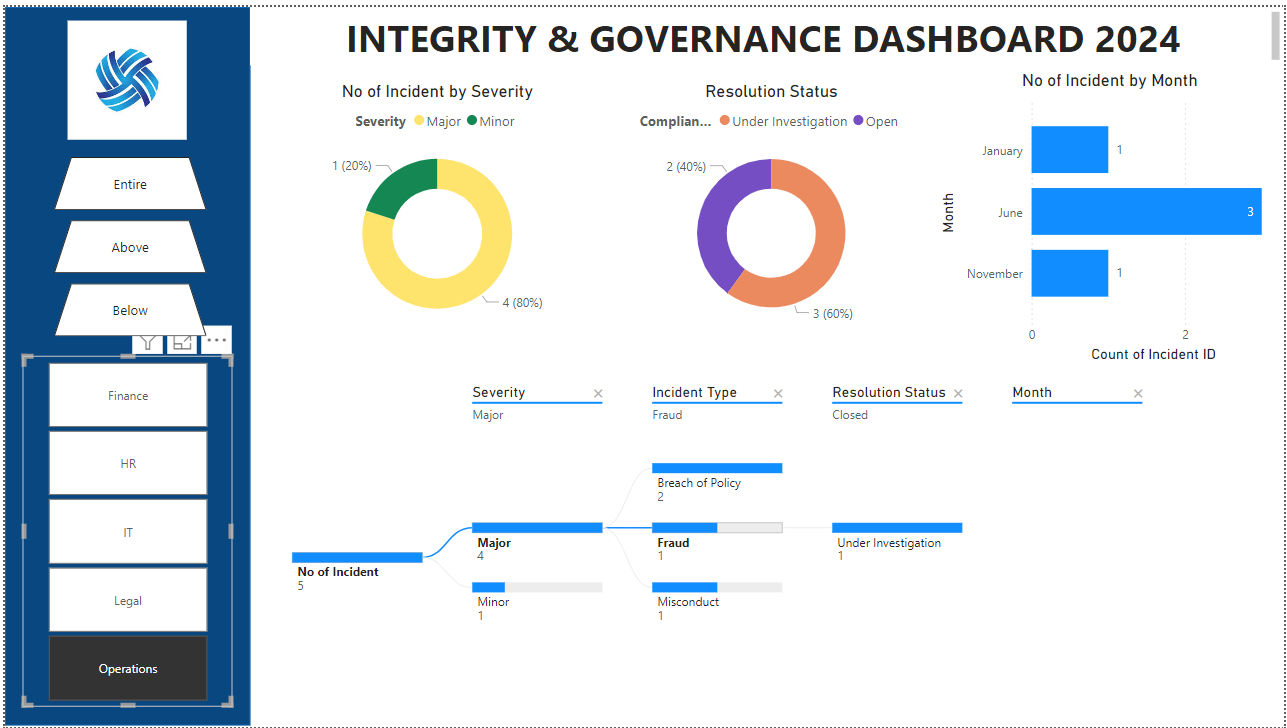

What the dashboard file says about the page in this screenshot:
{"tool":"powerbi","page":{"name":"Page 1","canvas":[1280,720],"ordinal":0},"visuals":[{"type":"shape","box":[0,0,245.4,718.7],"z":0},{"type":"textbox","box":[245.4,0,1034.6,58.6],"z":1000},{"type":"decompositionTreeVisual","fields":{"ExplainBy":["FullData.Severity","FullData.Incident Type","FullData.Compliance_Incidents_Resolution_Data.Incident Status","FullData.Date of Incident.Variation.Date Hierarchy.Month"],"Analyze":["CountNonNull(FullData.Incident ID)"]},"box":[257.3,360.4,1017.3,359.4],"z":2000},{"type":"slicer","fields":{"Values":["FullData.Compliance_Incidents_Resolution_Data.Assigned Department"]},"box":[18,348.9,209.1,351.4],"z":4000},{"type":"donutChart","title":"No of Incident by Severity","fields":{"Category":["FullData.Severity"],"Y":["CountNonNull(FullData.Incident ID)"]},"box":[262.7,73.8,339.8,257.3],"z":5000},{"type":"donutChart","title":"Resolution Status","fields":{"Category":["FullData.Compliance_Incidents_Resolution_Data.Incident Status"],"Y":["CountNonNull(FullData.Incident ID)"]},"box":[602.5,73.8,327.9,256.2],"z":6000},{"type":"barChart","title":"No of Incident by Month","fields":{"Category":["FullData.Date of Incident.Variation.Date Hierarchy.Month"],"Y":["CountNonNull(FullData.Incident ID)"]},"box":[930.4,63,349.6,297.5],"z":6001},{"type":"bookmarkNavigator","box":[46.2,137.2,153.9,182.1],"z":6002},{"type":"image","box":[20.5,6.4,206.5,111.6],"z":6003}]}

Visuals, with their boxes in screenshot pixels (x1, y1, x2, y2):
shape: x1=0 y1=23 x2=243 y2=727
textbox: x1=243 y1=23 x2=1269 y2=82
decompositionTreeVisual - FullData.Severity x FullData.Incident Type: x1=255 y1=381 x2=1264 y2=727
slicer - FullData.Compliance_Incidents_Resolution_Data.Assigned Department: x1=18 y1=369 x2=225 y2=718
"No of Incident by Severity" donutChart: x1=260 y1=97 x2=597 y2=352
"Resolution Status" donutChart: x1=597 y1=97 x2=923 y2=351
"No of Incident by Month" barChart: x1=923 y1=86 x2=1269 y2=381
bookmarkNavigator: x1=46 y1=160 x2=198 y2=340
image: x1=20 y1=30 x2=225 y2=140
